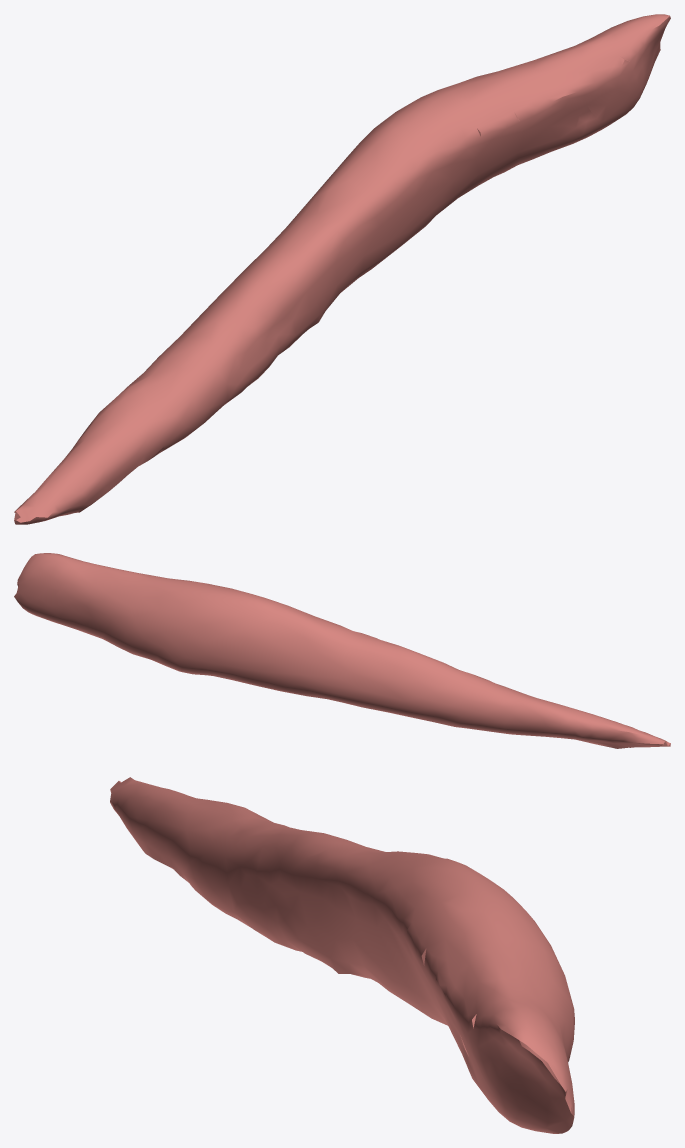
Rendered from fma22334_mm1668m.glb.
3 renders of one model, top to bottom at view 1: azimuth 30°, elevation 25°; view 2: azimuth 150°, elevation 25°; view 3: azimuth 270°, elevation 25°, orthographic. The views are drawn at different scales.
Visible parts, largest first — view 1: FMA22334_MM1668M; view 2: FMA22334_MM1668M; view 3: FMA22334_MM1668M.
Boxes of the visible parts, x1=… form: FMA22334_MM1668M: x1=14, y1=14, x2=670, y2=524; FMA22334_MM1668M: x1=14, y1=553, x2=670, y2=748; FMA22334_MM1668M: x1=110, y1=777, x2=574, y2=1133.
Size of the model in its own units: 0.0865 by 0.0223 by 0.0321.
